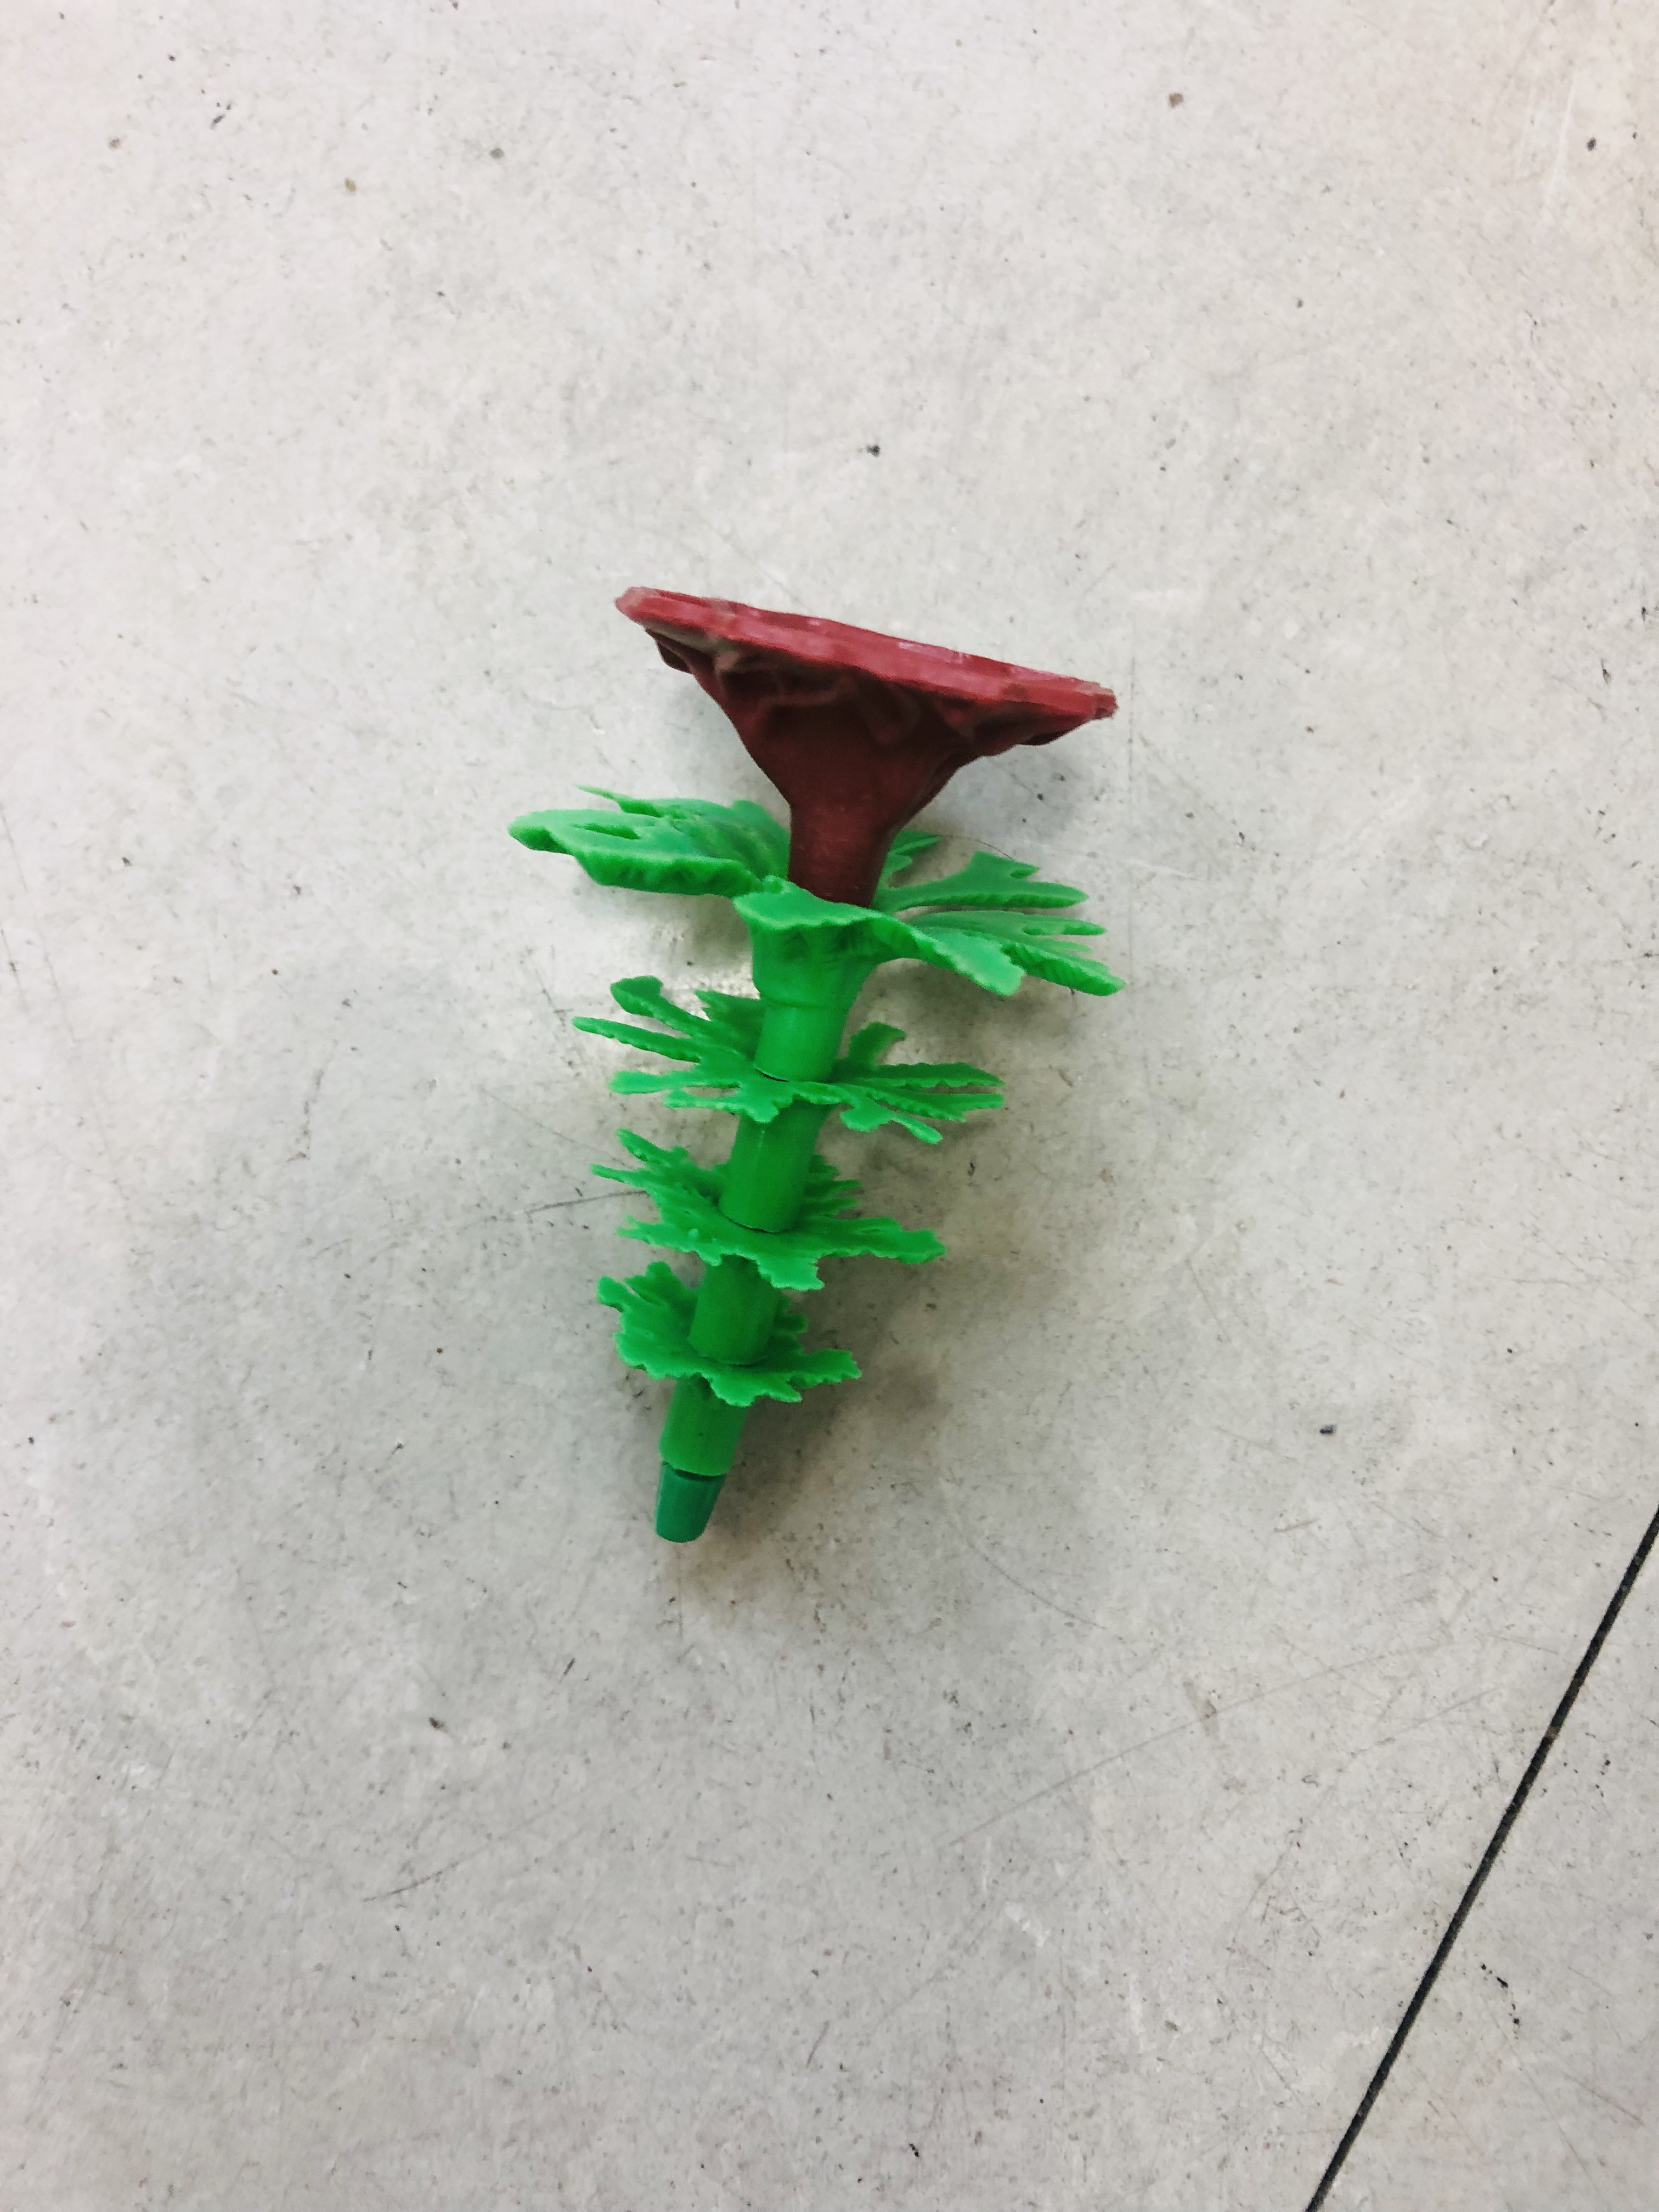tree: (496, 563, 1116, 1565)
